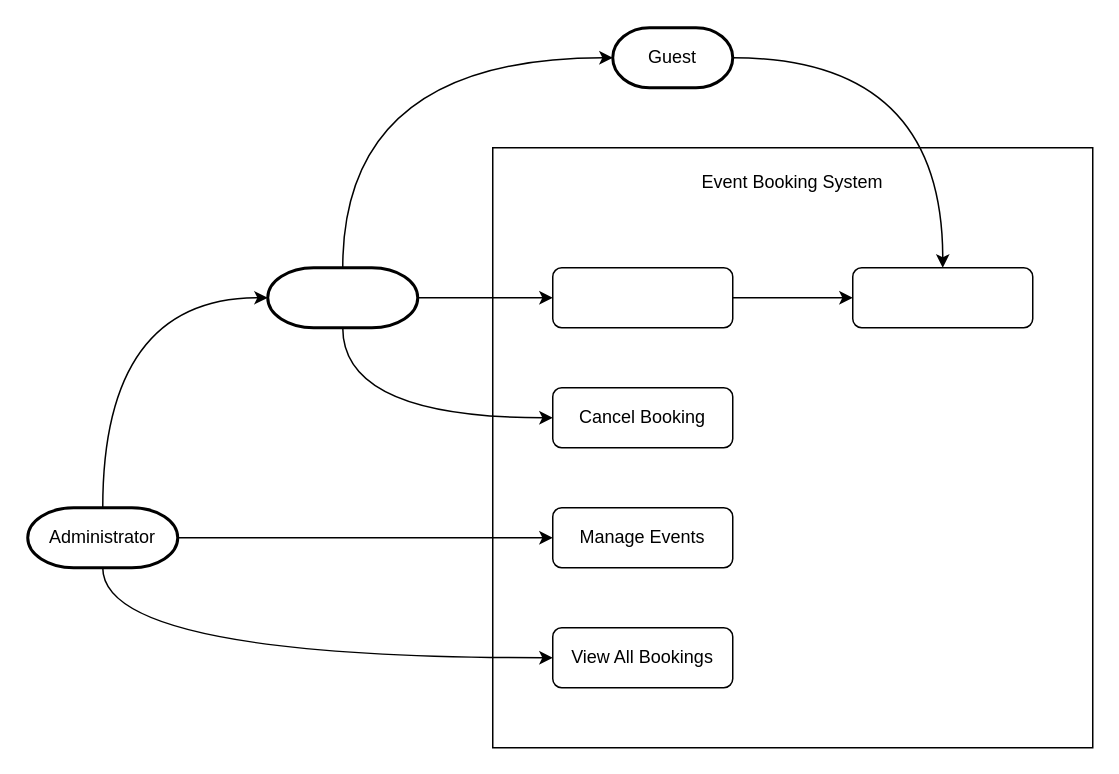
This 1119x774 diagram has some shape labels left out. The box of each missing label's shape, as (x1, y1, x2, y2) in pixels:
Book Event: (551, 266, 733, 328)
RegisteredUser: (266, 266, 418, 328)
View Events: (851, 266, 1033, 328)
